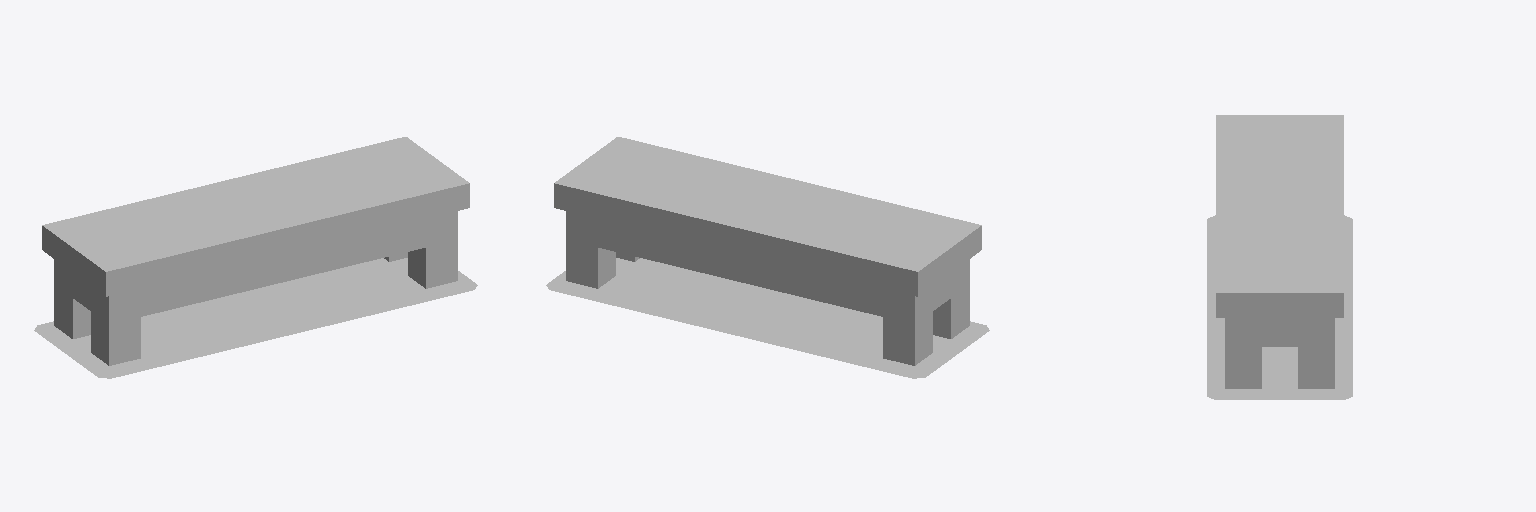
Rendered from Table 3.obj.
3 views of the same model, side by side, from view 1: azimuth 30°, elevation 25°; view 2: azimuth 150°, elevation 25°; view 3: azimuth 270°, elevation 25° (orthographic).
Parts seen in each view (by area): view 1: polygon1, polygon0; view 2: polygon1, polygon0; view 3: polygon1, polygon0.
Part boxes in pixels (x1,y1,x2,y2): polygon1: (42, 137, 469, 365); polygon0: (34, 258, 477, 378); polygon1: (554, 137, 981, 365); polygon0: (546, 258, 989, 378); polygon1: (1216, 115, 1343, 388); polygon0: (1207, 215, 1352, 399).
Bounding box in the file's own units: 48 × 12.5 × 16.